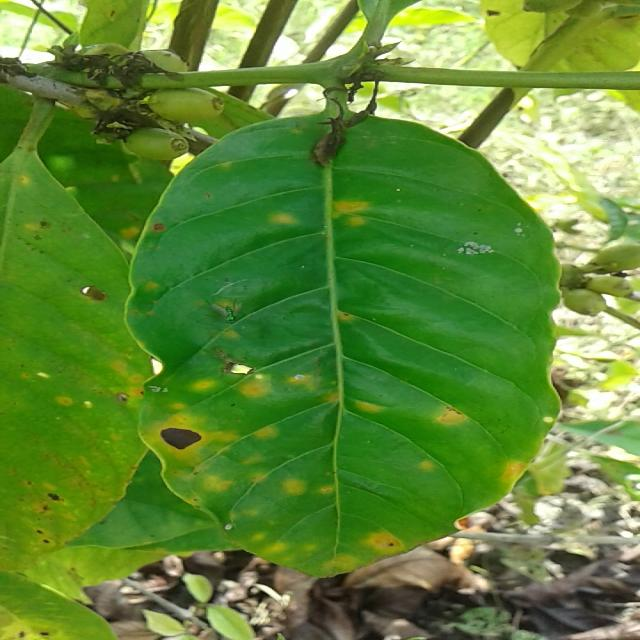Enfermedad-Roya: (74, 114, 561, 580)
